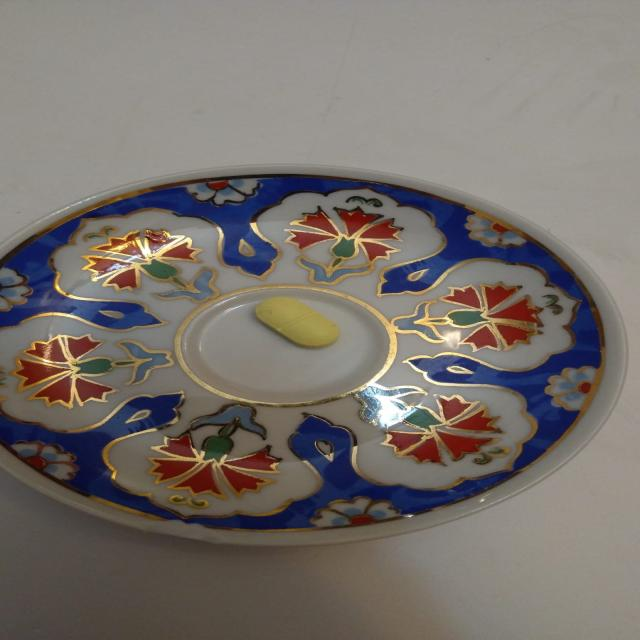pills: (247, 291, 352, 360)
